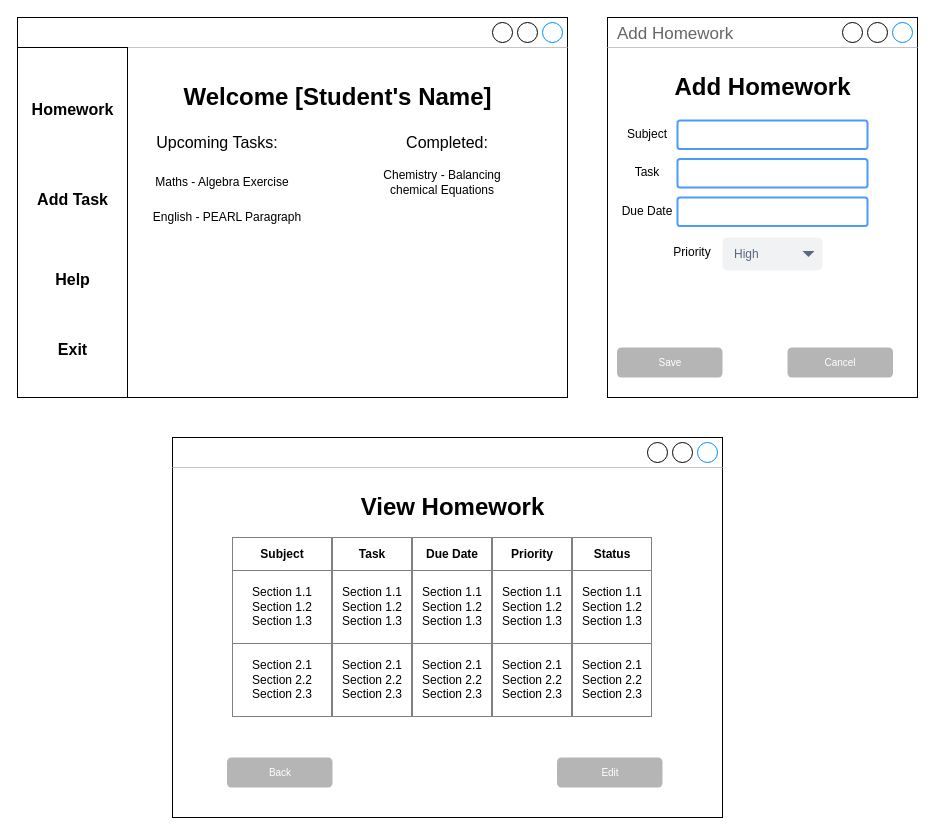
The diagram is 935 pixels wide and 835 high, and some of its shapes have lost their labels. The shapes that lost their labels are listed below. From the top down, each one's box as (x1, y1, x2, y2) in pixels, then its label:
(16, 16, 568, 398): Main Window
(172, 436, 722, 818): View Homework Window
